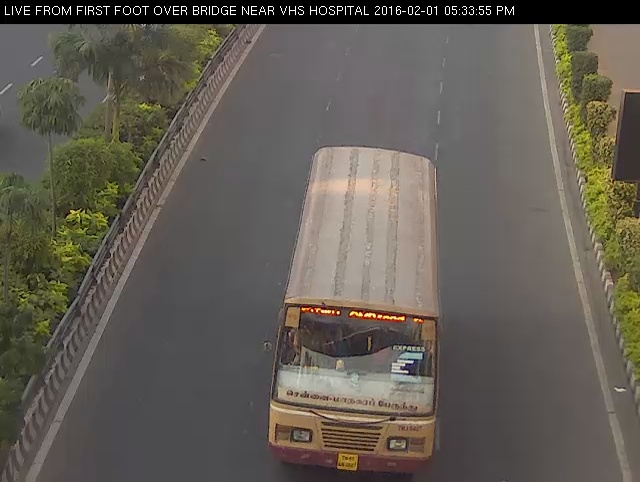Bus: (239, 136, 468, 482)
